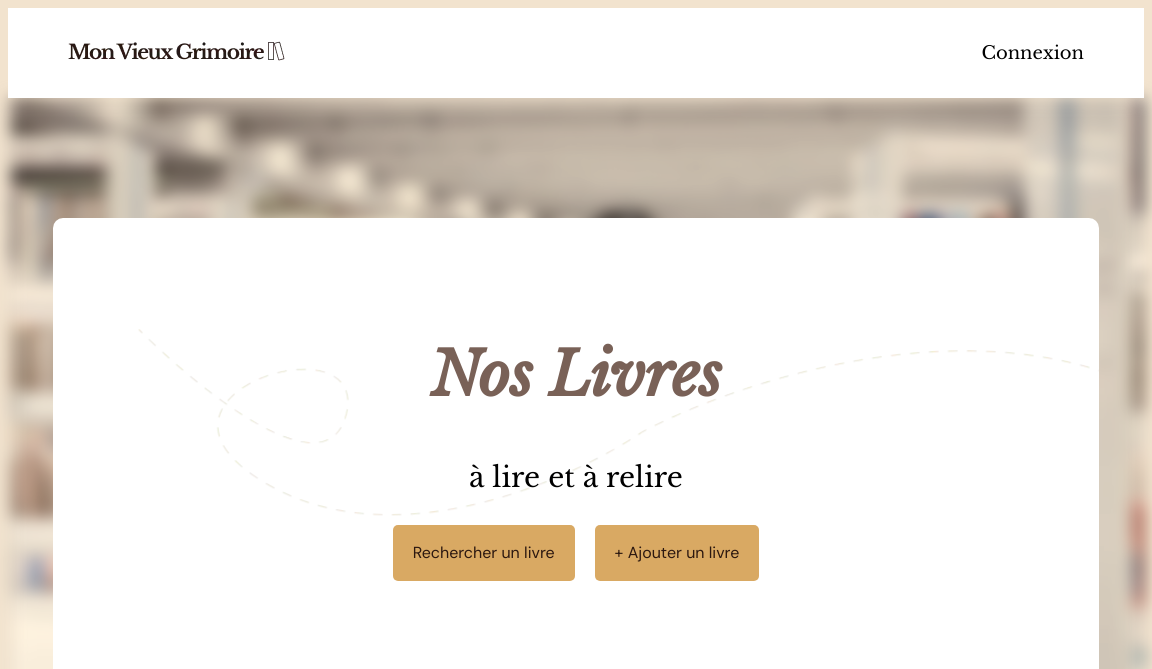
Mon Vieux Grimoire App › Component existence checks › should have correct components on sign in page
Click the link "Connexion".
click(1034, 53)  # box [982,42,1085,64]
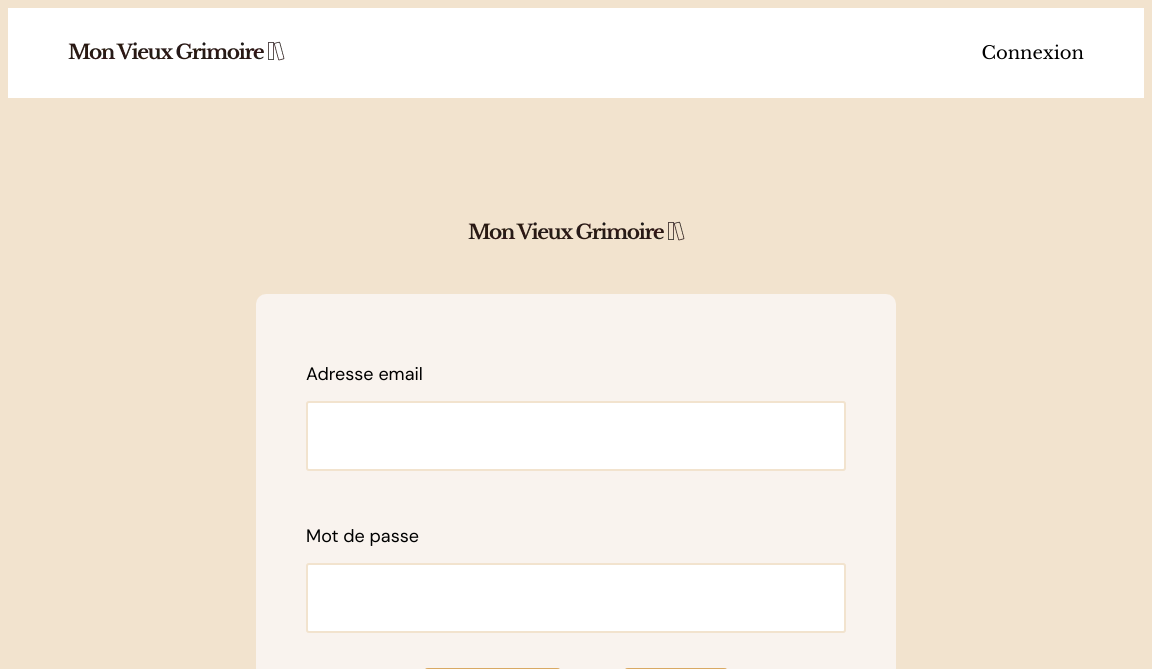
Now the text "Adresse email" is shown, box [306,362,423,386]
Now the field with id "email" is shown, box [306,401,846,471]
Now the password field labelled "Mot de passe" is shown, box [306,563,846,633]
